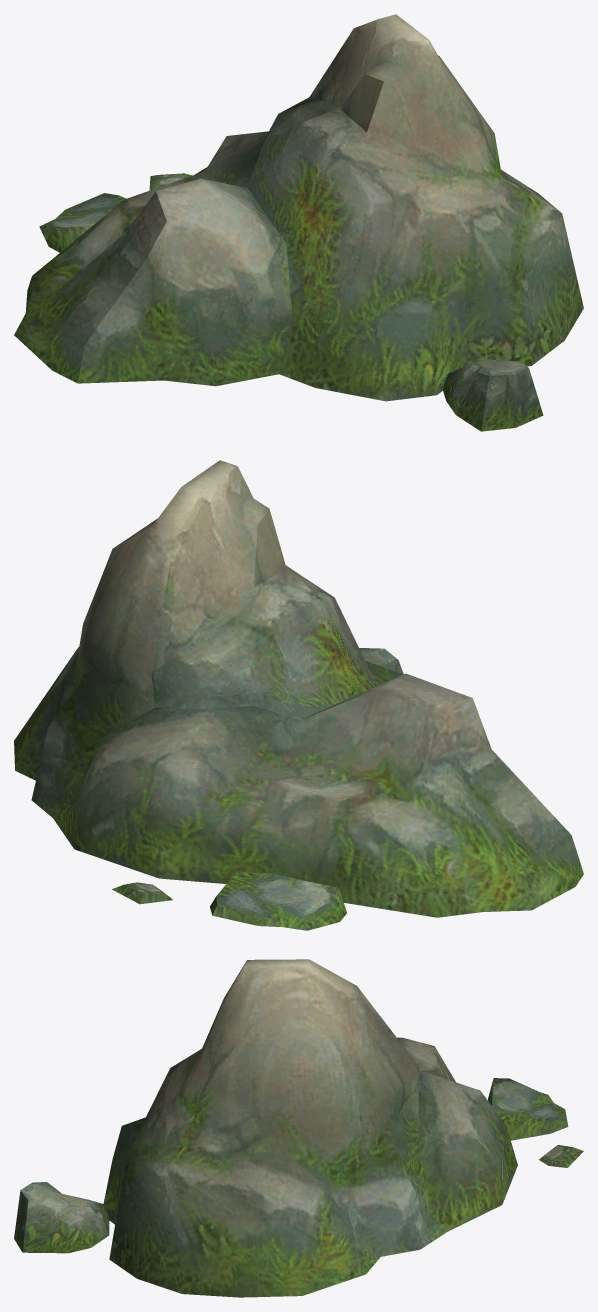
The model's file is 7001_Item_shitou_7.FBX.
3 renders of one model, top to bottom at view 1: azimuth 30°, elevation 25°; view 2: azimuth 150°, elevation 25°; view 3: azimuth 270°, elevation 25°, orthographic. The views are drawn at different scales.
Parts seen in each view (by area): view 1: 7001_Item_shitou_7; view 2: 7001_Item_shitou_7; view 3: 7001_Item_shitou_7.
Boxes of the visible parts, <box> form: 7001_Item_shitou_7: <box>14,14,583,431</box>; 7001_Item_shitou_7: <box>14,460,583,930</box>; 7001_Item_shitou_7: <box>14,959,583,1297</box>.
Bounding box in the file's own units: 484 × 274 × 493.
